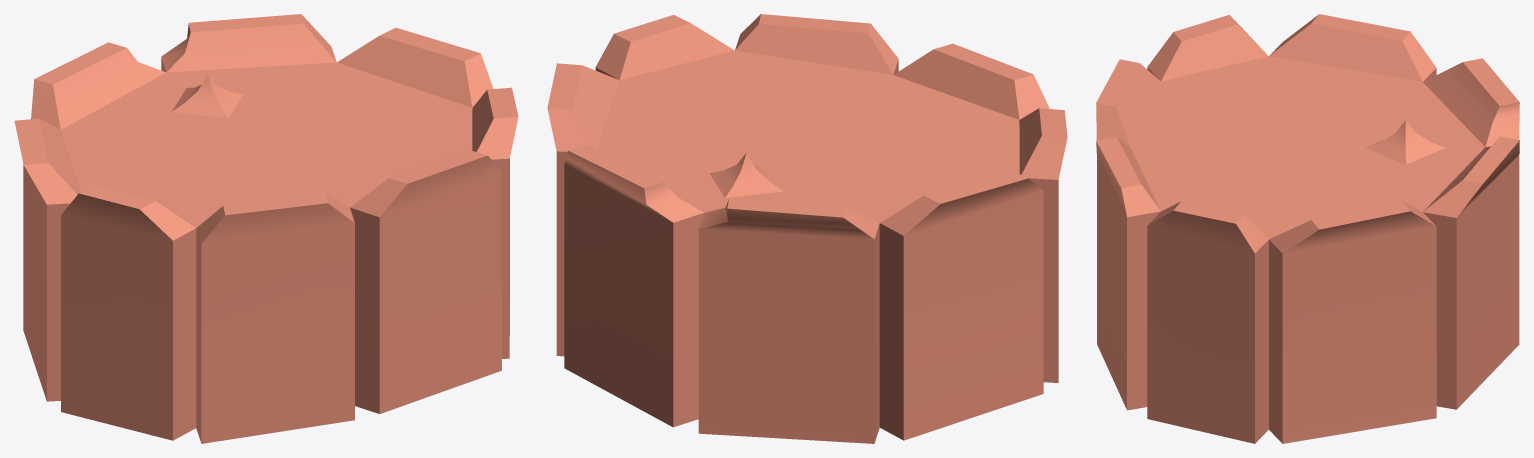
The model's file is Trak.fbx.
3 renders of one model, left to right at view 1: azimuth 30°, elevation 25°; view 2: azimuth 150°, elevation 25°; view 3: azimuth 270°, elevation 25°, orthographic. The views are drawn at different scales.
Parts seen in each view (by area): view 1: pCube3; view 2: pCube3; view 3: pCube3.
Part boxes in pixels (<box>): pCube3: <box>14,14,518,443</box>; pCube3: <box>547,14,1067,443</box>; pCube3: <box>1096,14,1519,443</box>.
Size of the model in its own units: 777 by 372 by 645.
